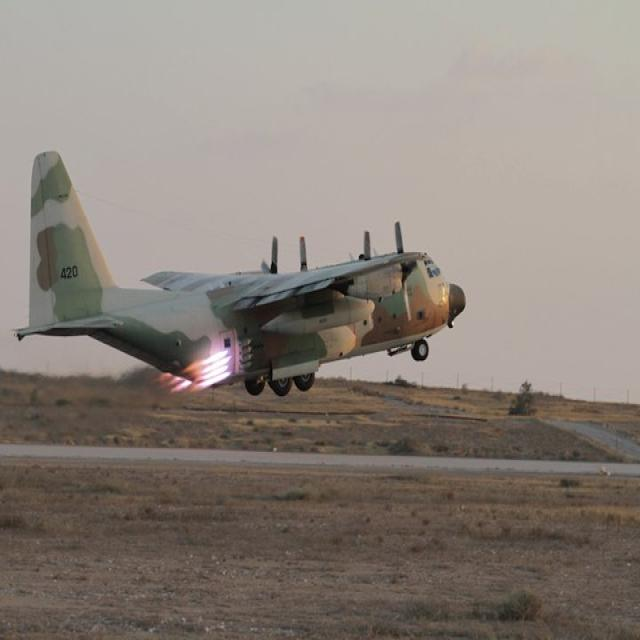MIL_Plane: (9, 149, 466, 396)
